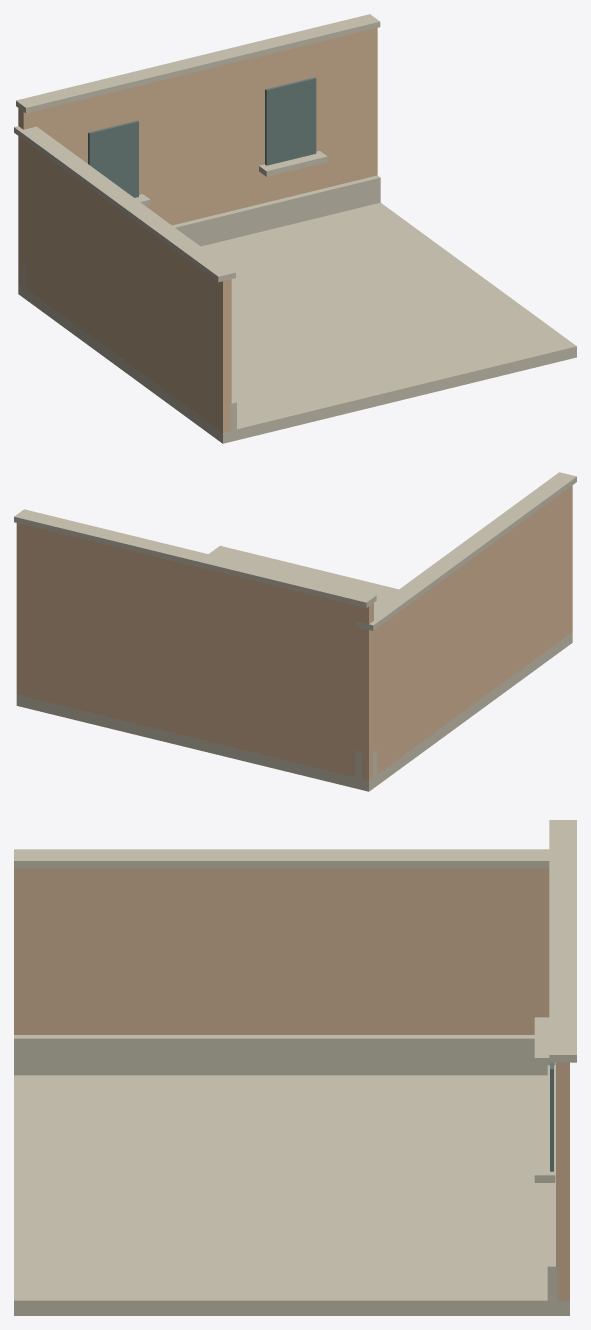
The model's file is district-0-0-2.glb.
3 renders of one model, top to bottom at view 1: azimuth 30°, elevation 25°; view 2: azimuth 150°, elevation 25°; view 3: azimuth 270°, elevation 25°, orthographic. The views are drawn at different scales.
Visible parts, largest first — view 1: stone.018, plaster.016, glass.006; view 2: plaster.016, stone.018; view 3: stone.018, plaster.016.
Part boxes in pixels (left/top/right/bottom): stone.018: left=14, top=14, right=576, bottom=443; plaster.016: left=18, top=28, right=377, bottom=432; glass.006: left=88, top=77, right=316, bottom=197; plaster.016: left=16, top=485, right=572, bottom=780; stone.018: left=14, top=472, right=576, bottom=791; stone.018: left=14, top=820, right=576, bottom=1315; plaster.016: left=14, top=868, right=569, bottom=1301.
Size of the model in its own units: 8.1 by 4.14 by 8.1.
